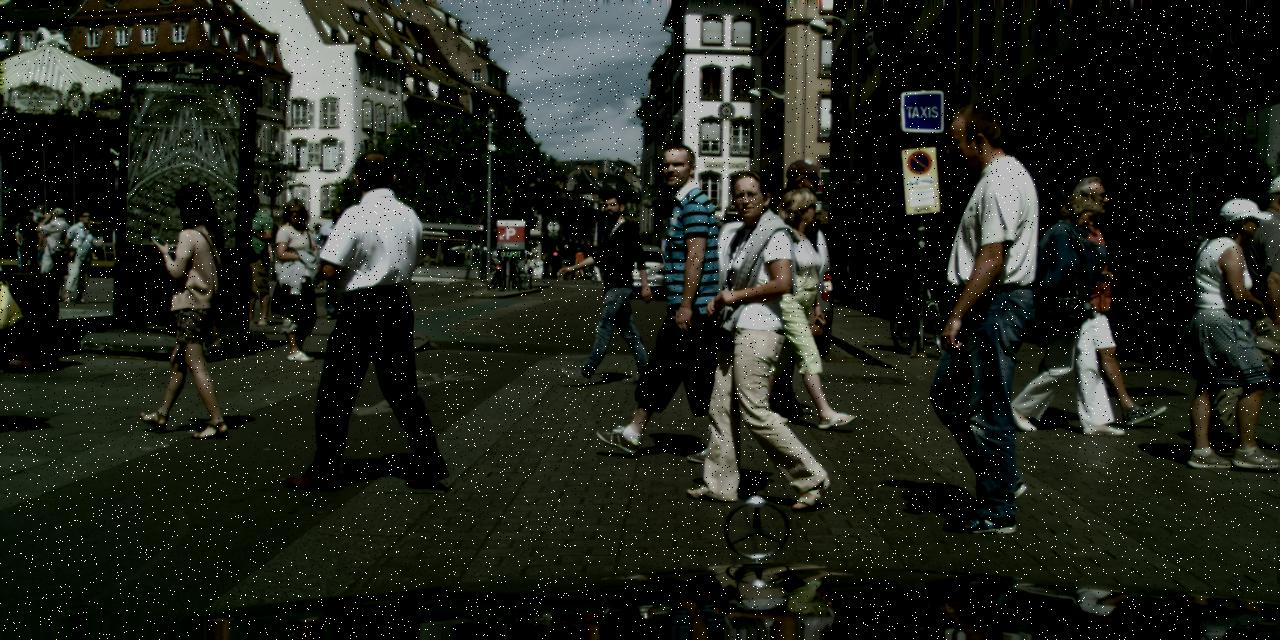ped: (900, 108, 1073, 530), (308, 150, 447, 488), (689, 168, 824, 500), (613, 143, 741, 457), (739, 160, 843, 414), (1182, 195, 1278, 466), (140, 183, 242, 433), (1039, 175, 1140, 423), (1026, 190, 1125, 432), (747, 187, 845, 427), (1212, 176, 1278, 456), (572, 192, 649, 382), (266, 196, 332, 360), (226, 192, 281, 324), (312, 207, 357, 318), (34, 207, 74, 301), (60, 209, 98, 301), (248, 226, 278, 298), (866, 240, 893, 307), (303, 222, 329, 287), (14, 211, 40, 276), (27, 214, 51, 274), (877, 242, 901, 302), (8, 222, 31, 277), (846, 250, 867, 302), (488, 245, 505, 287), (559, 243, 573, 279), (588, 248, 601, 282), (573, 247, 585, 279), (581, 252, 591, 278), (526, 255, 534, 275)
